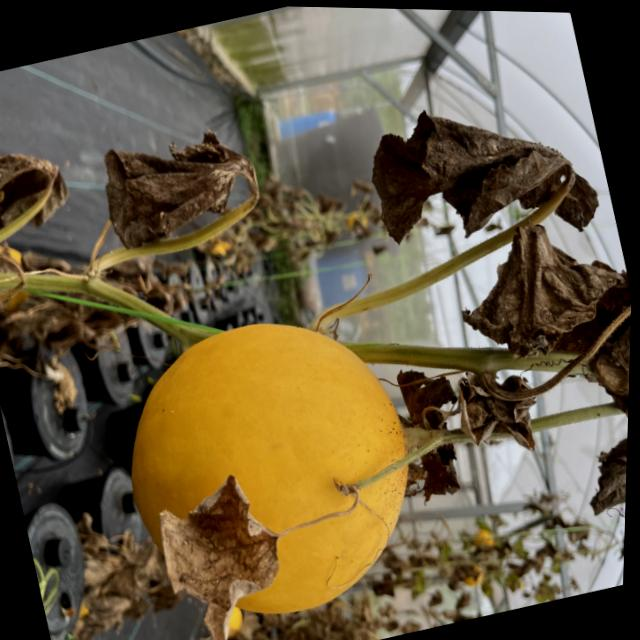bacterial wilt: (341, 40, 612, 288), (124, 456, 307, 640), (82, 100, 258, 265), (465, 203, 630, 362), (538, 290, 632, 542), (437, 329, 569, 474), (0, 84, 75, 250), (0, 213, 27, 375)
